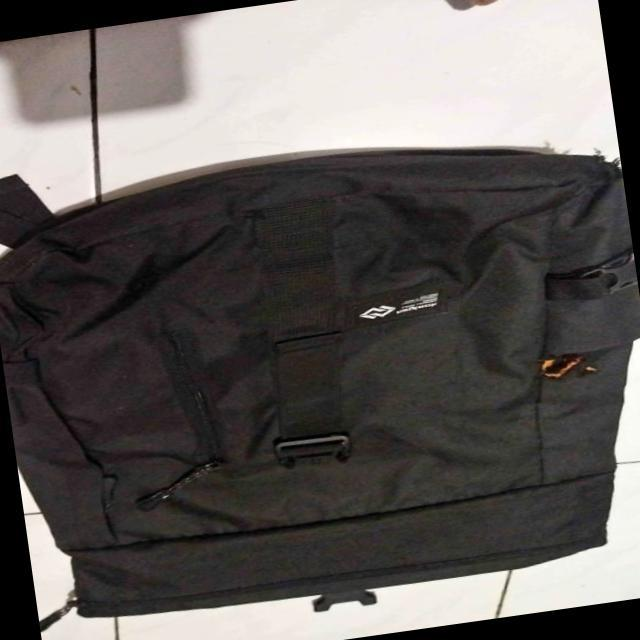bag: (0, 151, 618, 623)
